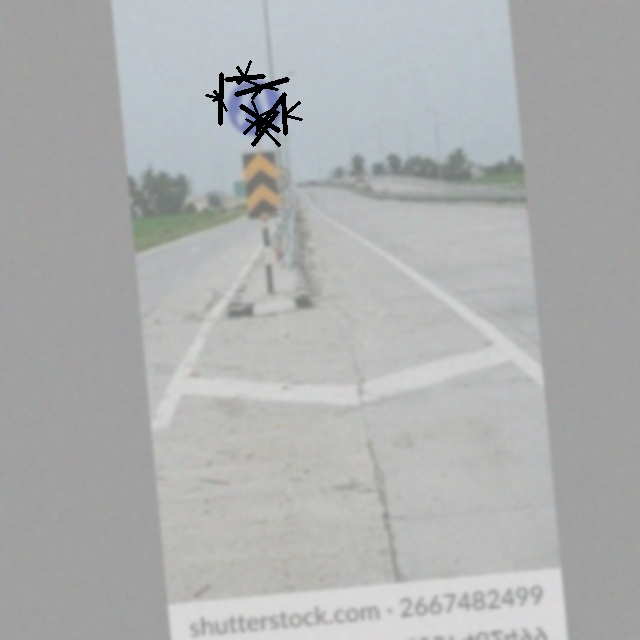Pass_Either_Side: (218, 71, 290, 145)
